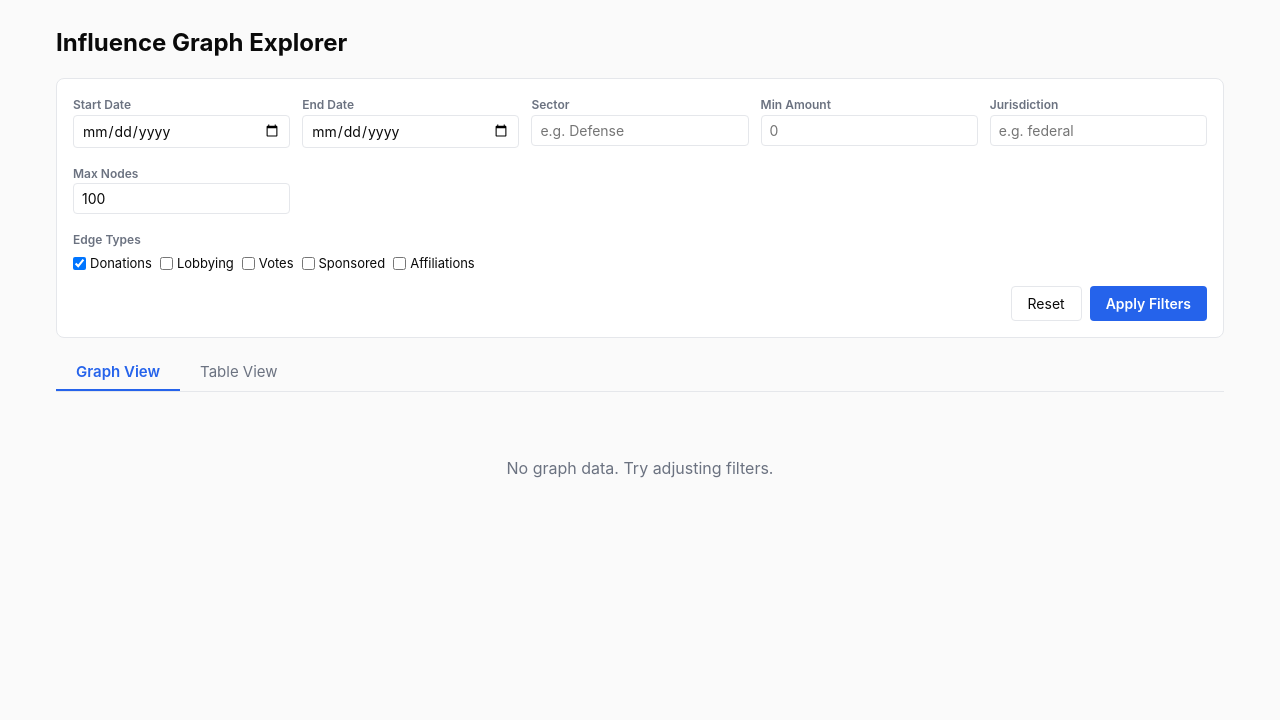
Test: GraphPage › displays error on fetch failure
The width and height of the screenshot is (1280, 720).
Step 1. Click the button "Apply Filters" → [1148, 303], box [1090, 286, 1207, 321]
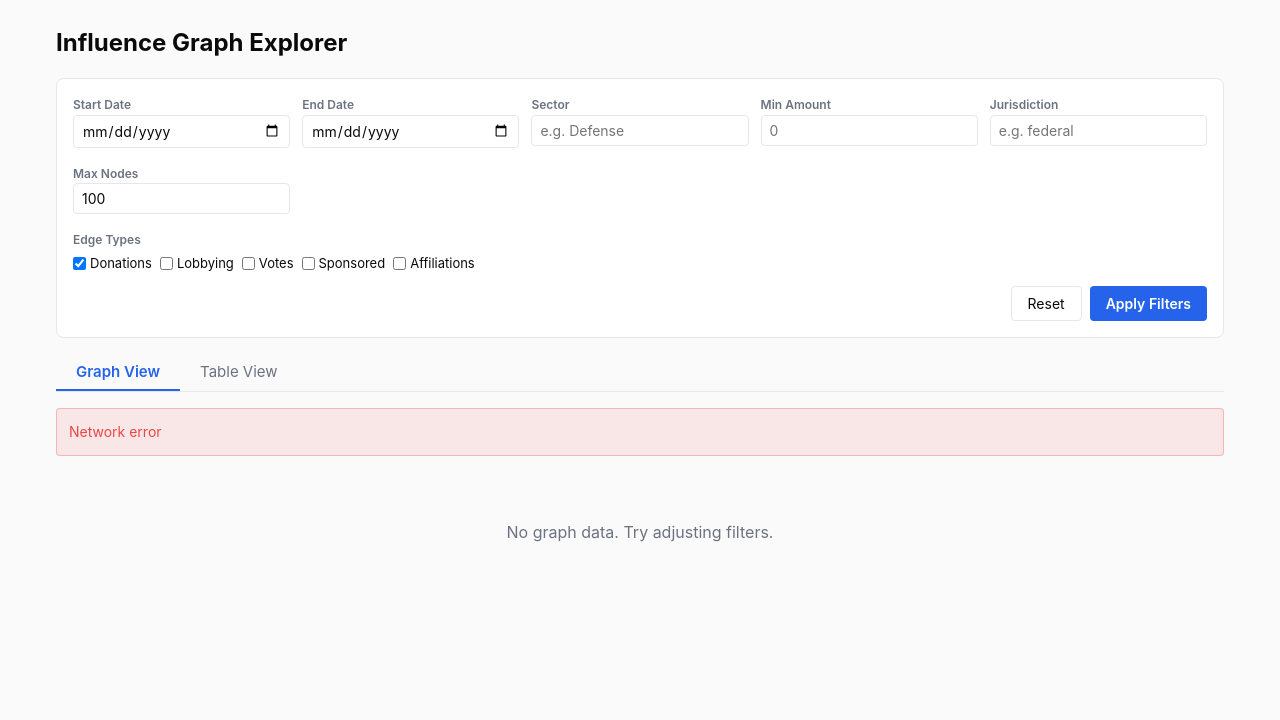
Now the text "Network error" is shown, box [56, 408, 1224, 456]
